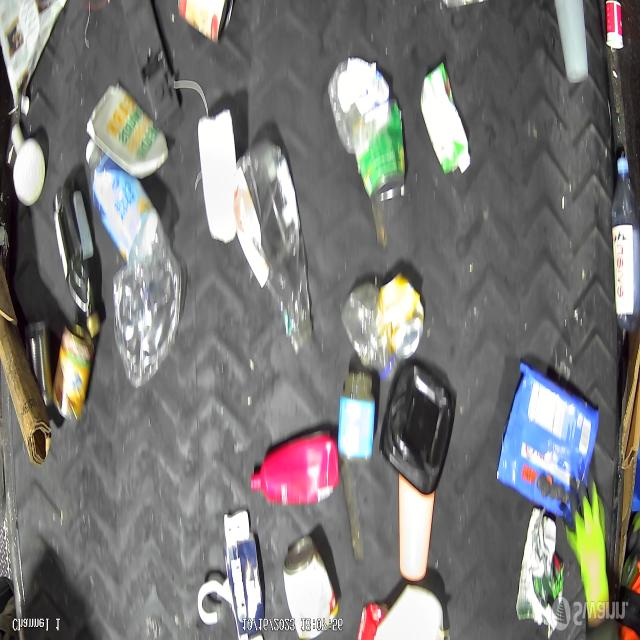can: (286, 539, 341, 640), (352, 104, 405, 198)
non_white_jug: (250, 433, 340, 505)
plastic_bottle: (232, 132, 314, 352), (89, 142, 167, 278)
